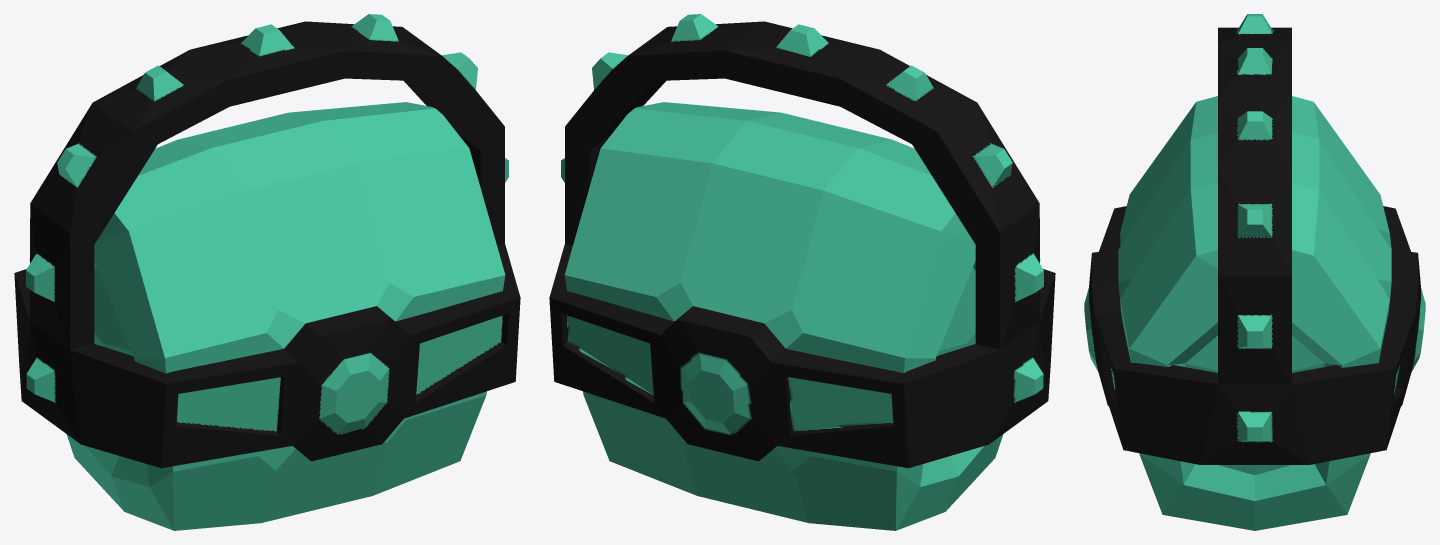
Rendered from artifact.fbx.
The picture shows the model from 3 angles, left to right: view 1: azimuth 30°, elevation 25°; view 2: azimuth 150°, elevation 25°; view 3: azimuth 270°, elevation 25°; orthographic projection. The views are drawn at different scales.
Parts seen in each view (by area): view 1: Cylinder.001; view 2: Cylinder.001; view 3: Cylinder.001.
Boxes of the visible parts, <box> form: Cylinder.001: <box>14,14,520,530</box>; Cylinder.001: <box>549,14,1055,530</box>; Cylinder.001: <box>1084,14,1425,530</box>.
Size of the model in its own units: 67.08 by 62.27 by 45.02.
1 material, 1 textured.
